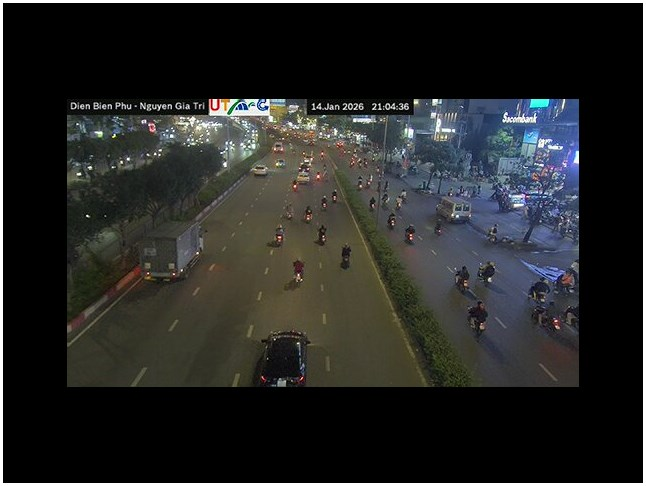car: (251, 165, 269, 177)
